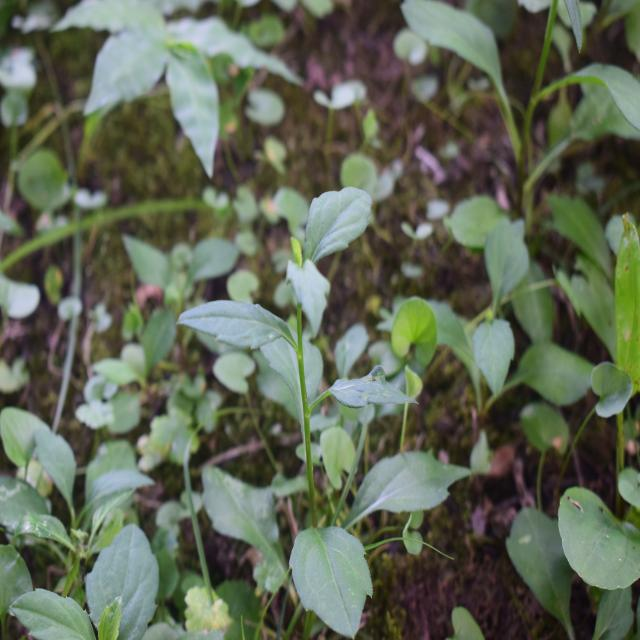Indian aster: (201, 196, 416, 621)
